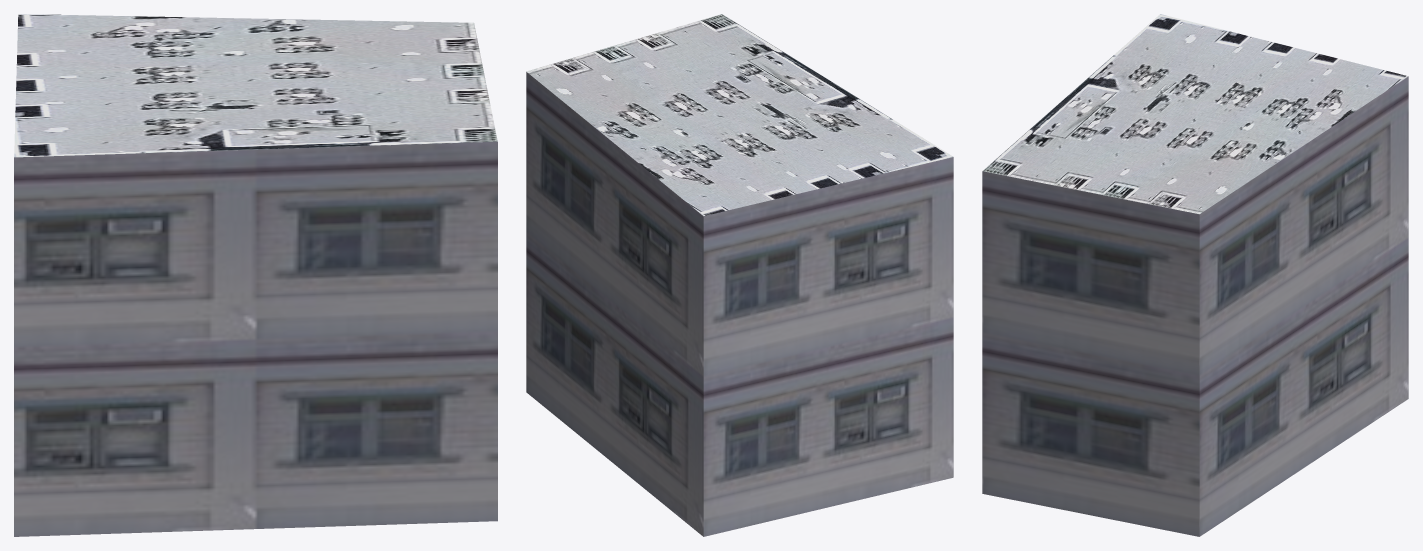
File: ResTex__3286.fbx
The picture shows the model from 3 angles, left to right: view 1: azimuth 30°, elevation 25°; view 2: azimuth 150°, elevation 25°; view 3: azimuth 270°, elevation 25°; orthographic projection. The views are drawn at different scales.
Parts seen in each view (by area): view 1: CityEngineMaterial_1_m, CityEngineMaterial_m; view 2: CityEngineMaterial_1_m, CityEngineMaterial_m; view 3: CityEngineMaterial_1_m, CityEngineMaterial_m.
Part boxes in pixels (bbox=[...]): CityEngineMaterial_1_m: bbox=[14, 141, 497, 536]; CityEngineMaterial_m: bbox=[14, 14, 497, 157]; CityEngineMaterial_1_m: bbox=[526, 72, 953, 536]; CityEngineMaterial_m: bbox=[526, 14, 953, 216]; CityEngineMaterial_1_m: bbox=[982, 76, 1408, 536]; CityEngineMaterial_m: bbox=[982, 14, 1408, 214].
Size of the model in its own units: 7.99 by 6 by 7.18.
2 materials, 2 textured.
